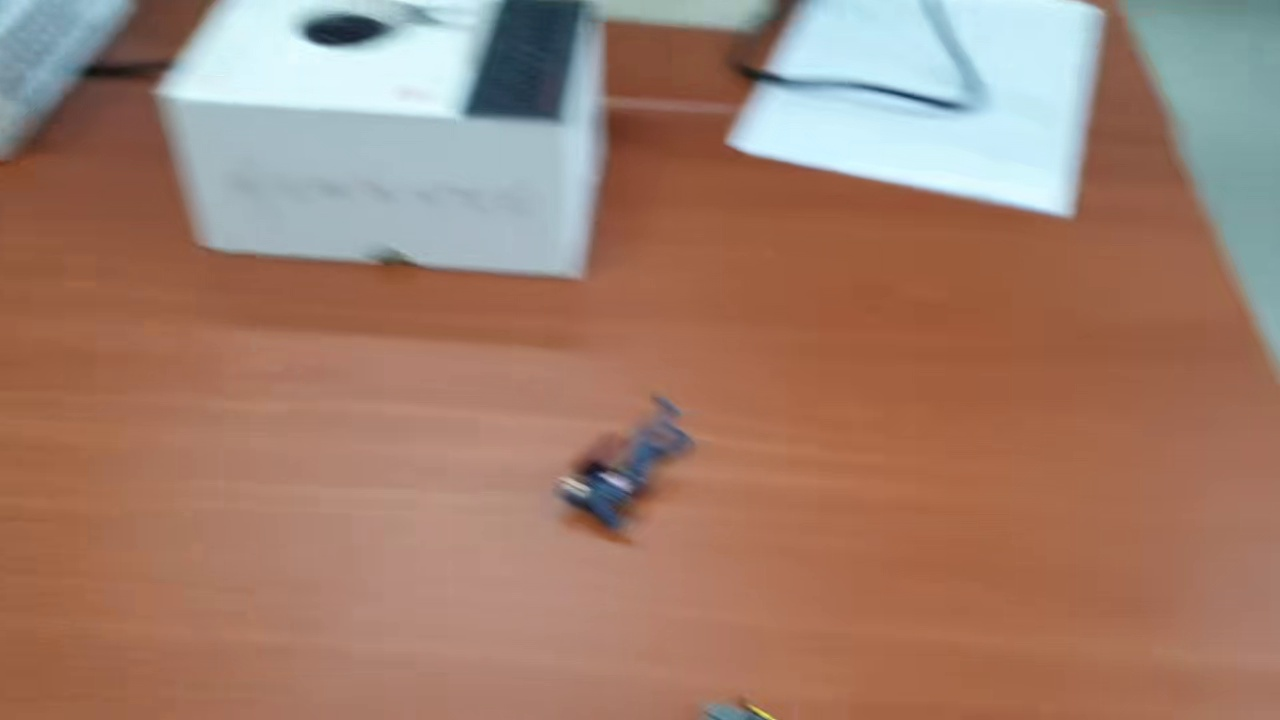people: (558, 390, 691, 531)
